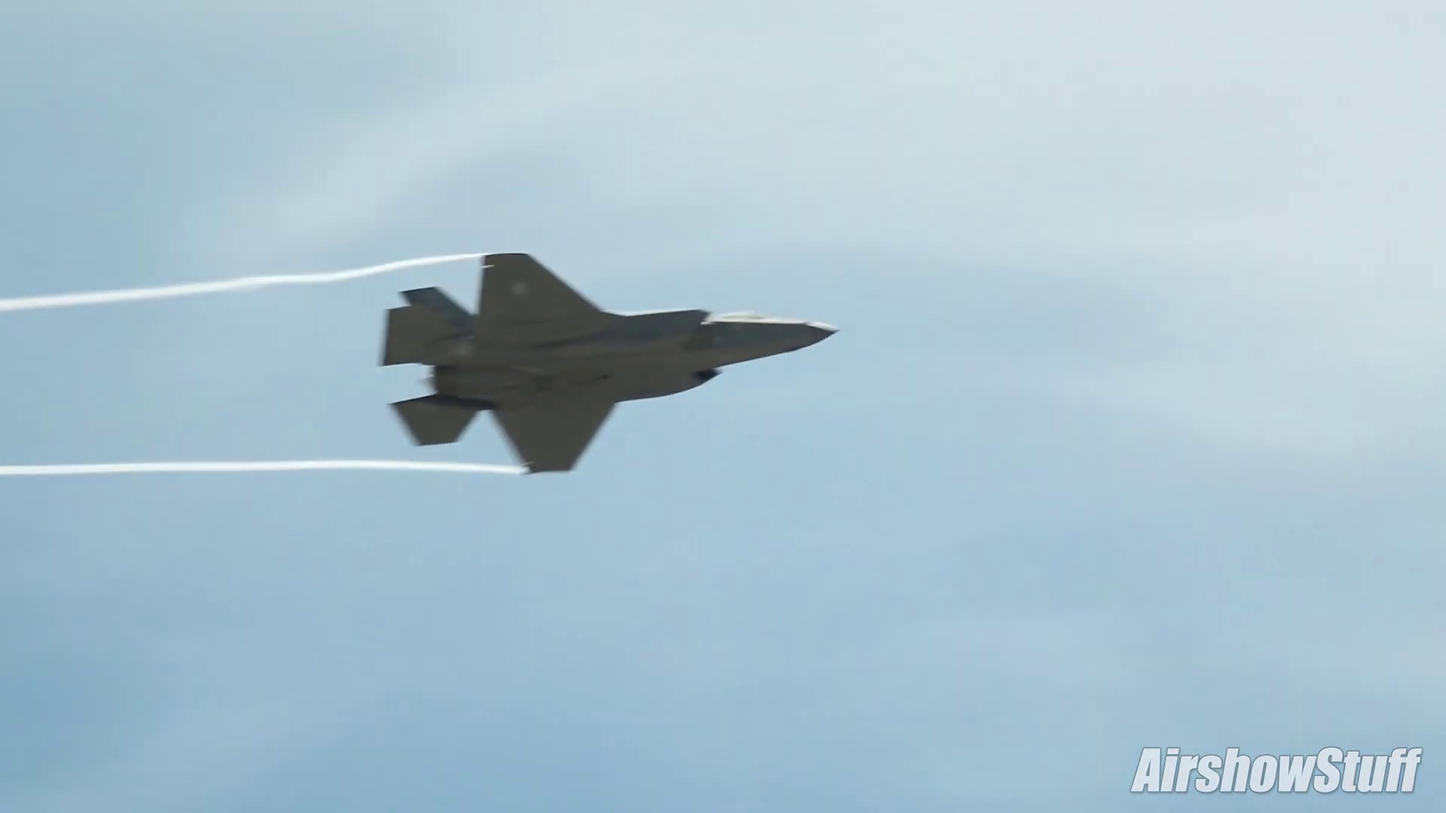F35: (368, 246, 856, 491)
